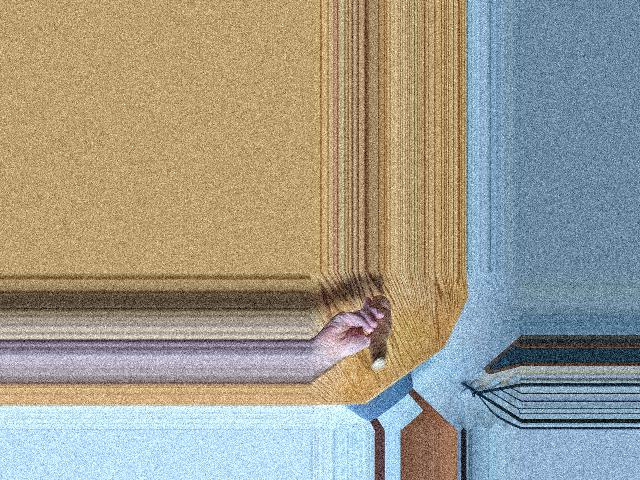sweet_potato: (363, 298, 392, 370)
